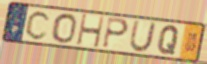C: (24, 10, 53, 41)
H: (75, 13, 106, 50)
O: (51, 12, 78, 45)
P: (100, 17, 130, 50)
Q: (156, 24, 181, 56)
U: (128, 20, 158, 54)
